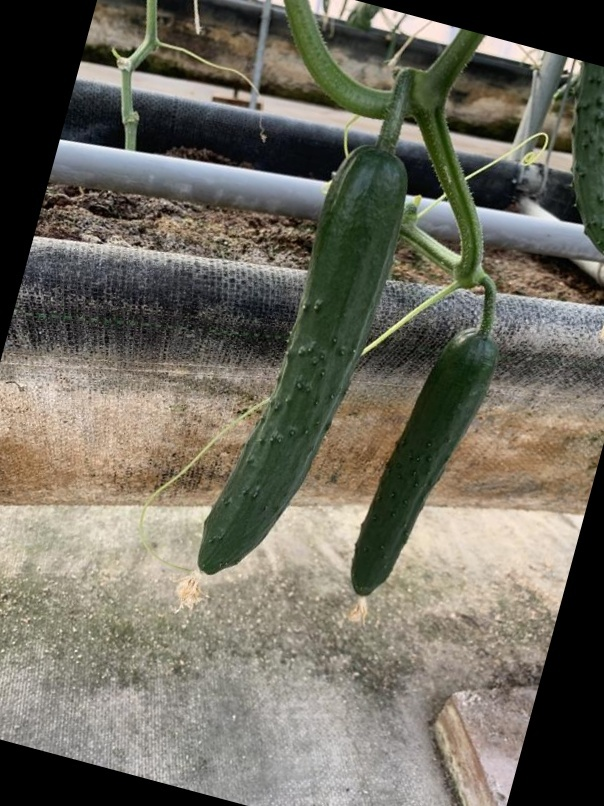mature: (195, 146, 412, 591), (348, 330, 500, 600)
